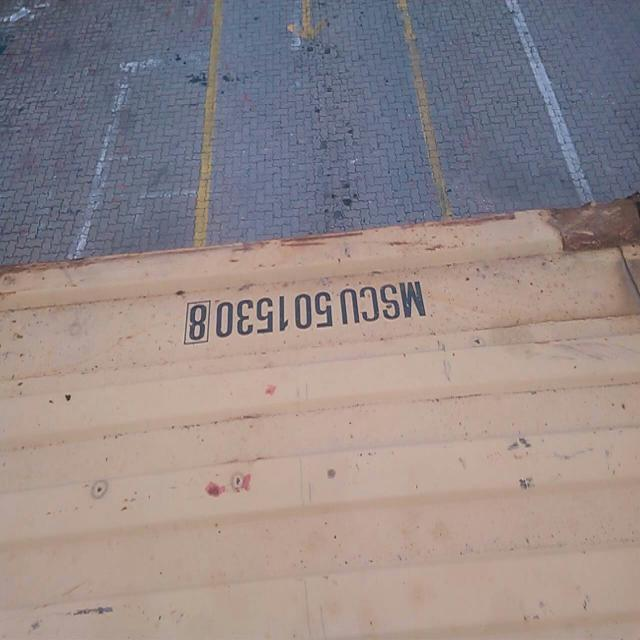rust: (538, 191, 640, 260), (1, 254, 107, 280), (423, 207, 522, 233), (281, 228, 370, 249)
